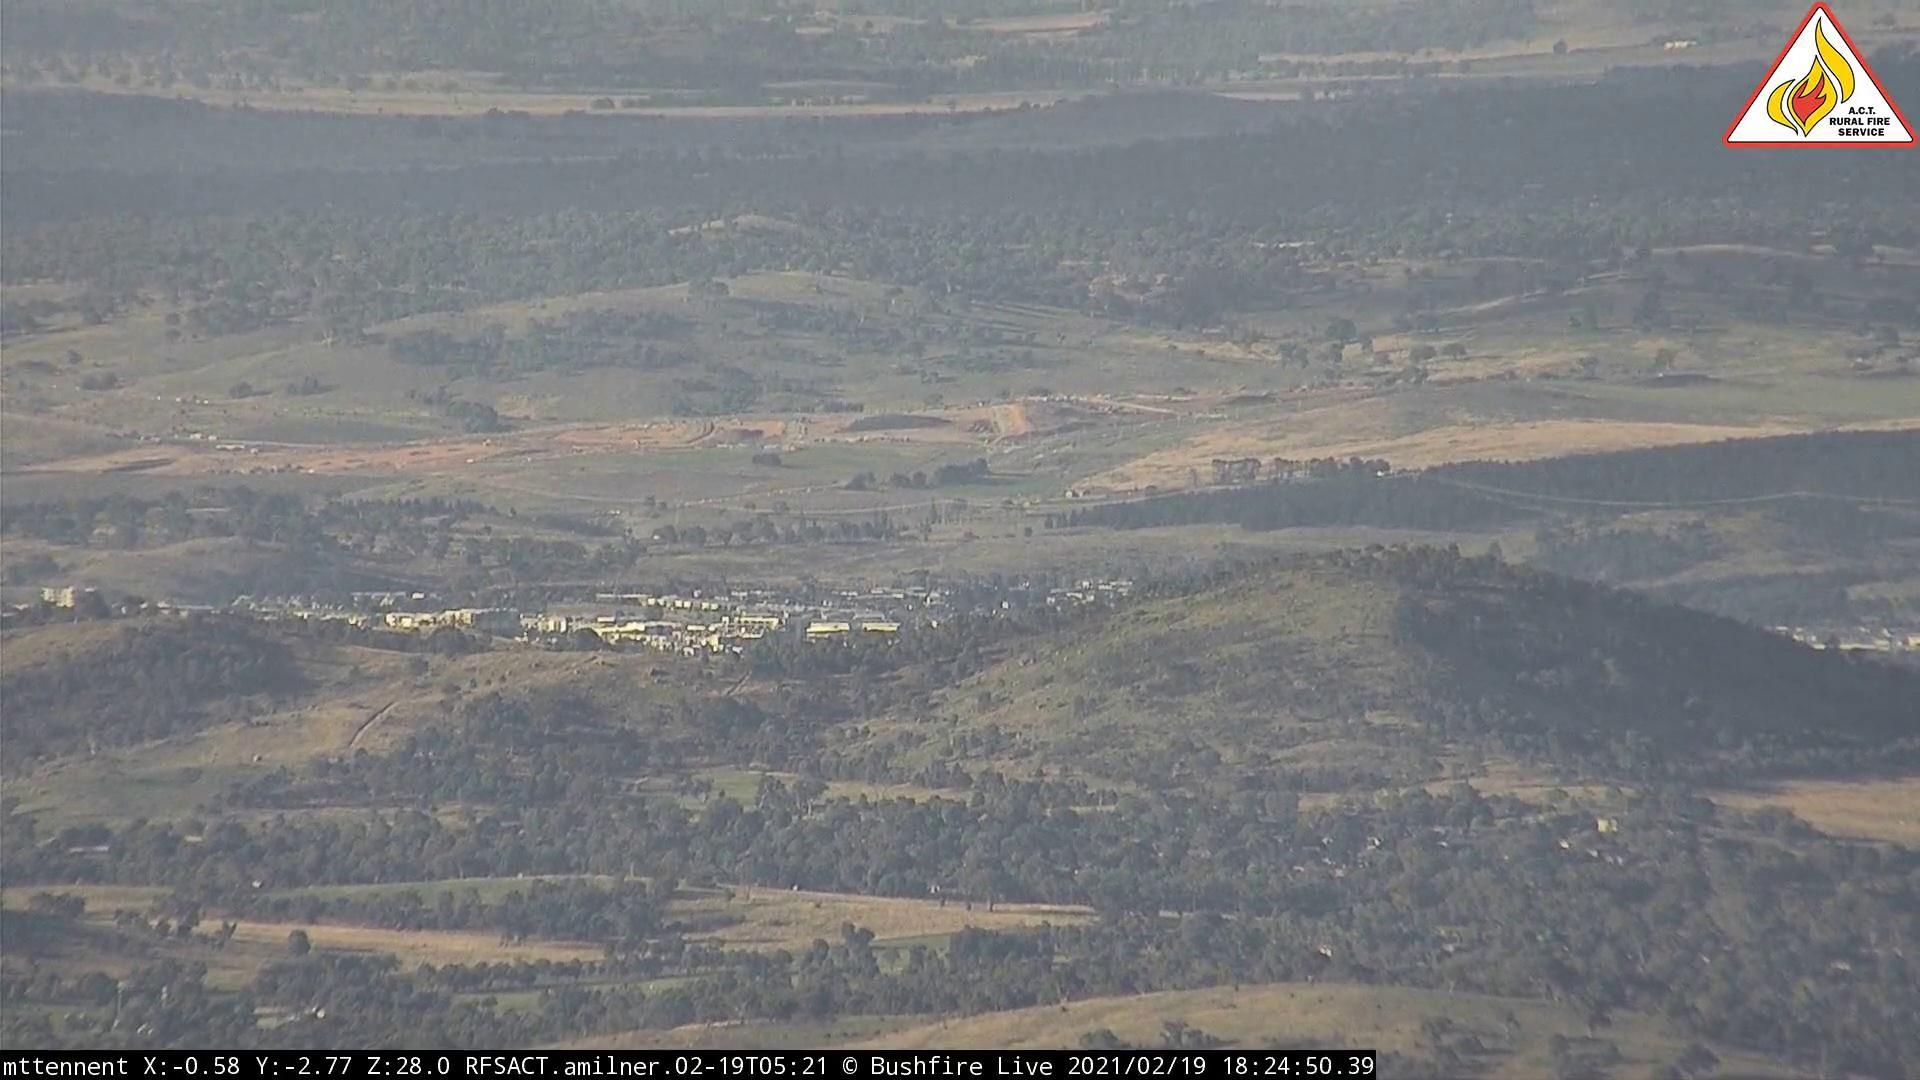instance_salient_object: (629, 522, 676, 555)
